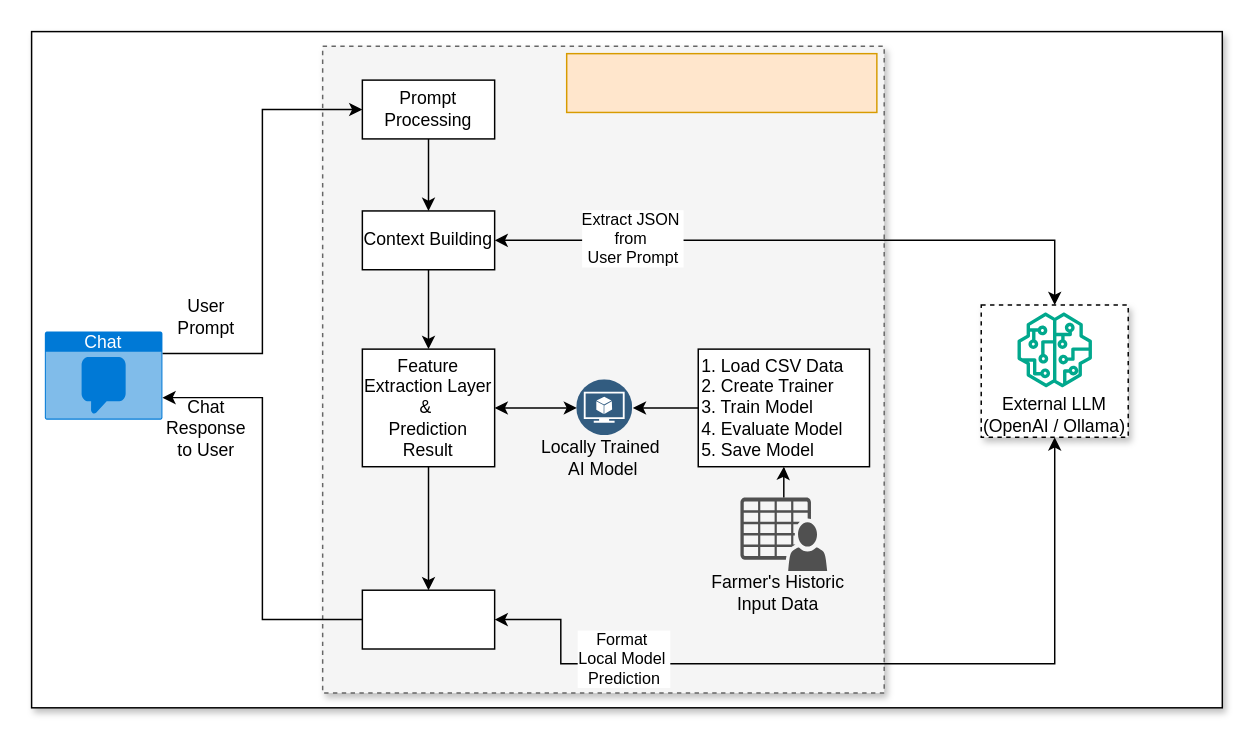
Image size: 1257x744. Some labels were removed from this diagram. The shapes that lost their labels are listed below. From the top down, each one's centre as x and y in pixels, then its label:
At point (721, 82): "SpringBoot, Spring AI, Tribuo ML Library".
At point (428, 619): "LLM Response Formetter".
